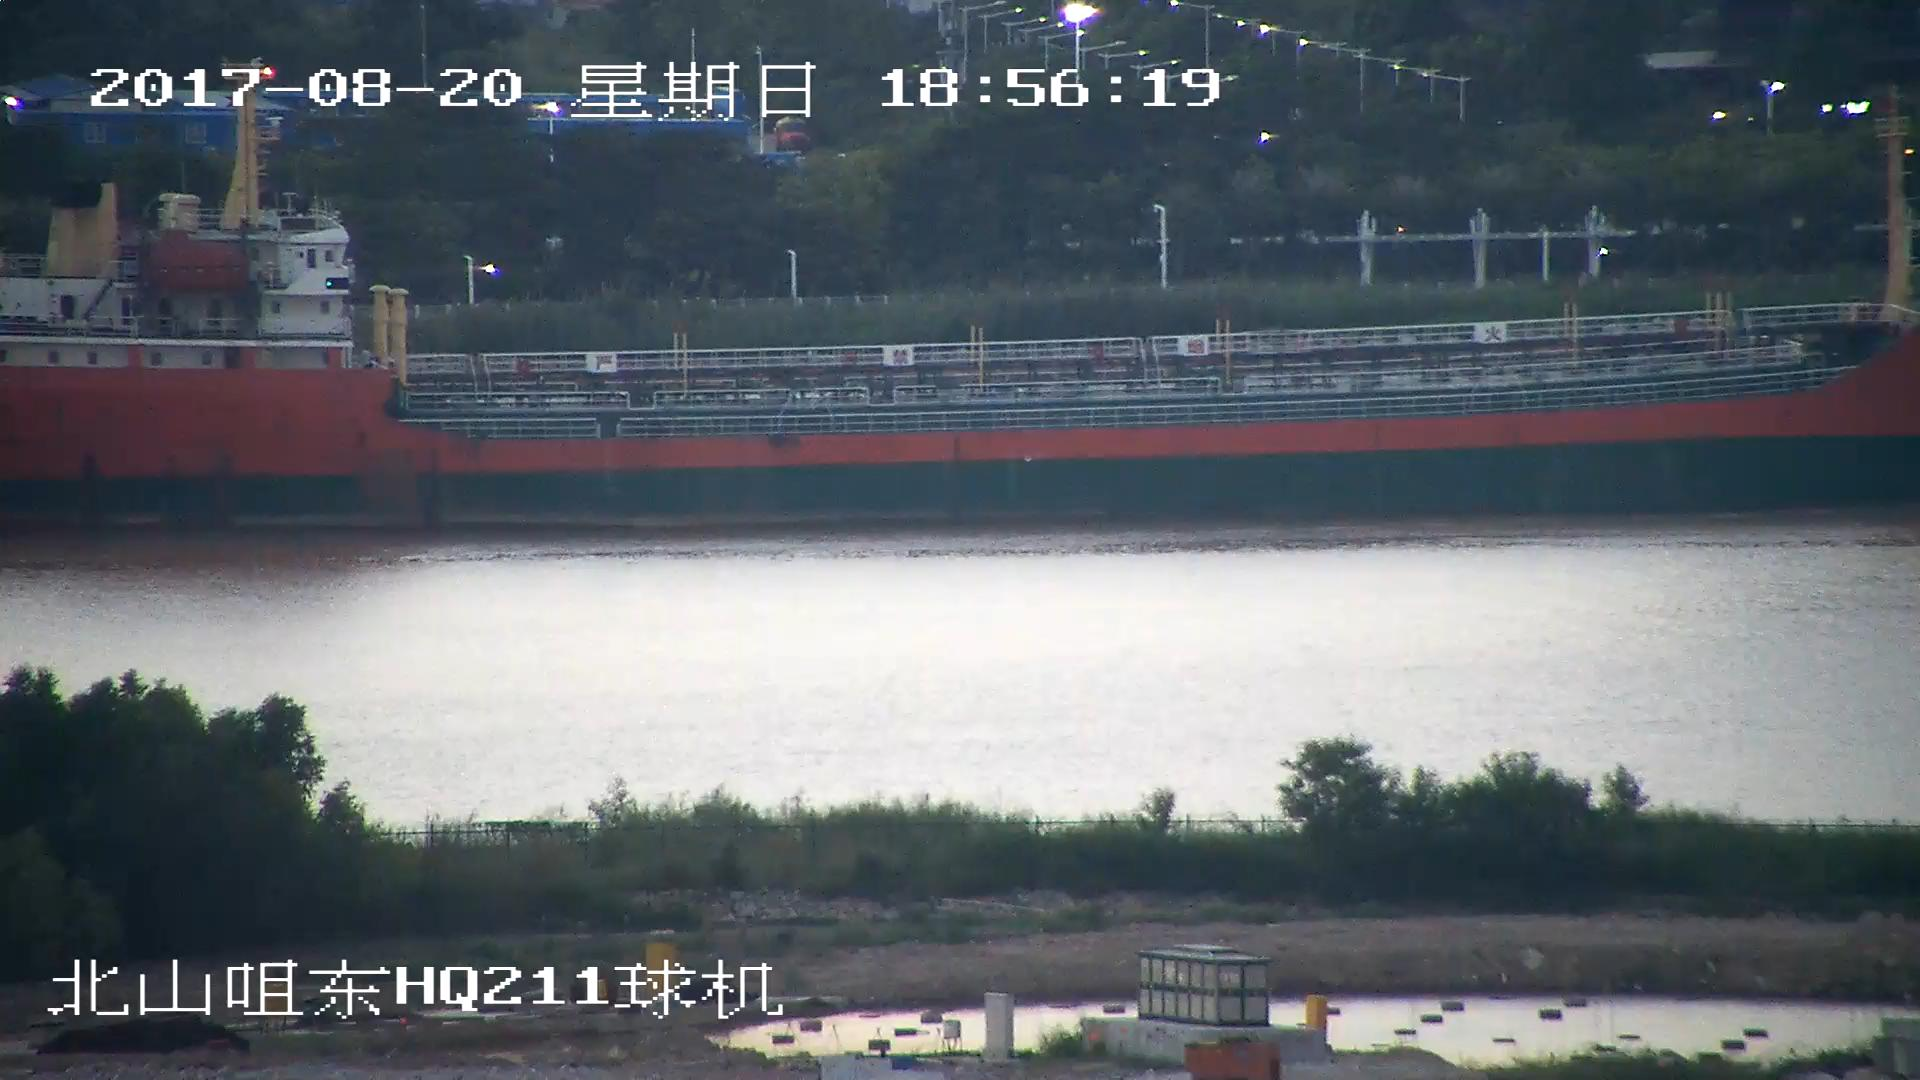general cargo ship: (1, 110, 1920, 534)
